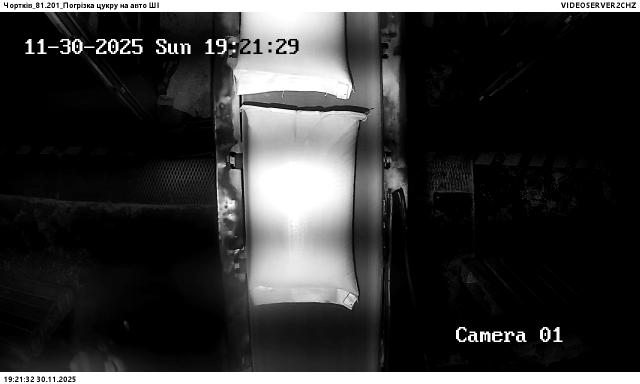bag: (242, 103, 366, 310), (234, 12, 357, 99)
